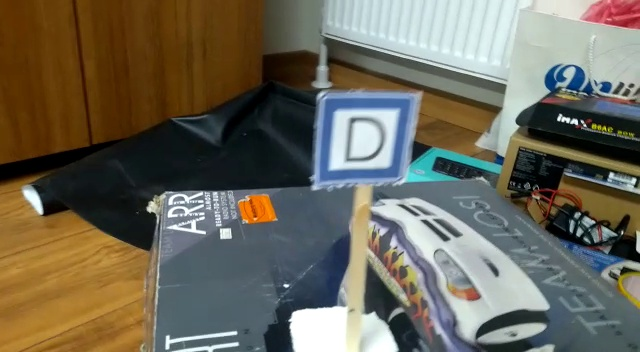durak: (310, 91, 425, 186)
